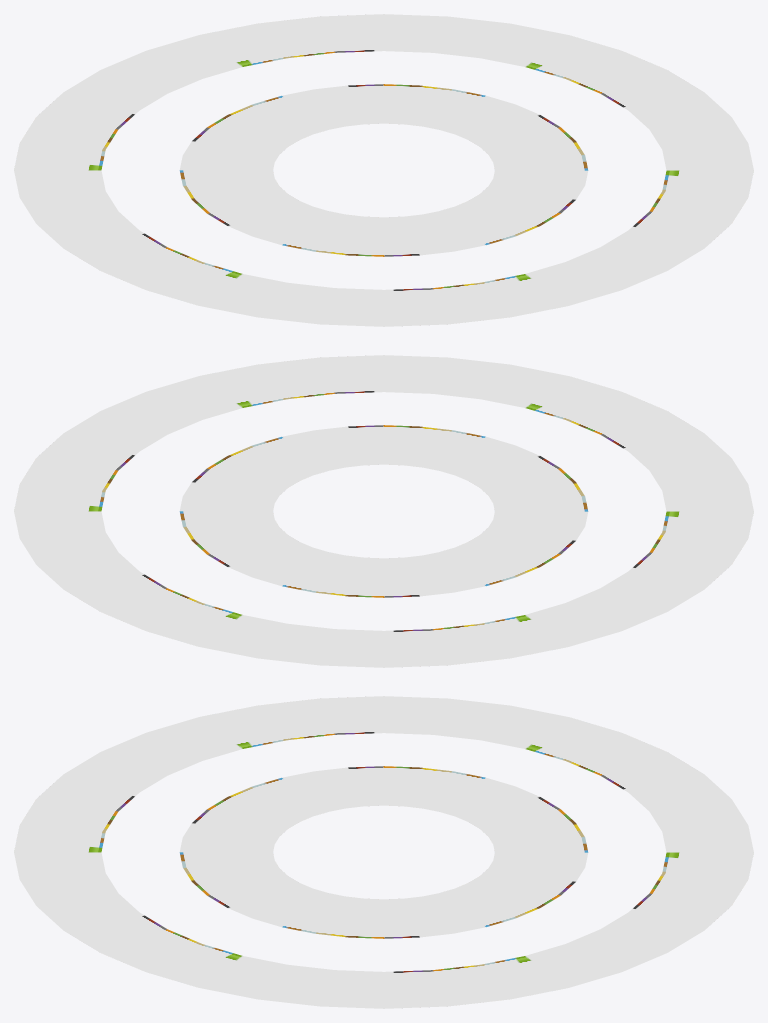
File: glow_test.fbx
The picture shows the model from 3 angles, top to bottom: view 1: azimuth 30°, elevation 25°; view 2: azimuth 150°, elevation 25°; view 3: azimuth 270°, elevation 25°; orthographic projection.
Parts seen in each view (by area): view 1: Station_Segment_01_Full5_DUP6; view 2: Station_Segment_01_Full5_DUP6; view 3: Station_Segment_01_Full5_DUP6.
Boxes of the visible parts, left/top/right/bottom form: Station_Segment_01_Full5_DUP6: left=14, top=14, right=753, bottom=326; Station_Segment_01_Full5_DUP6: left=14, top=355, right=753, bottom=667; Station_Segment_01_Full5_DUP6: left=14, top=696, right=753, bottom=1008.
Bounding box in the file's own units: 2404 × 0 × 2404.
1 material, 1 textured.
